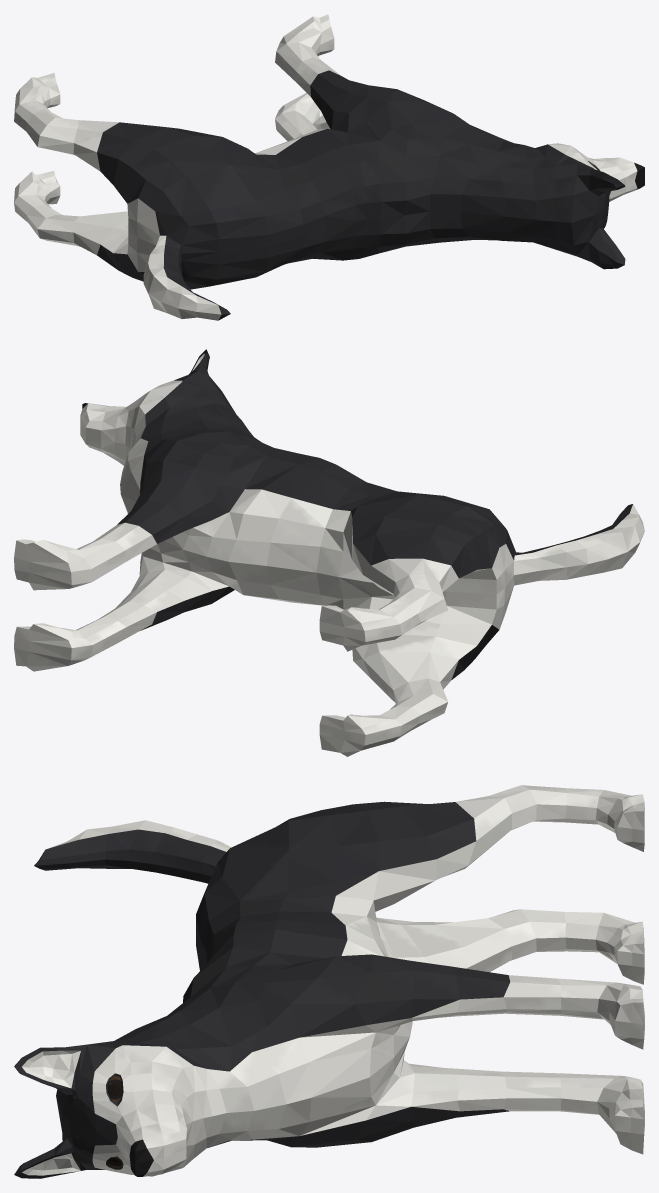
The model's file is dog_husky.obj.
3 renders of one model, top to bottom at view 1: azimuth 30°, elevation 25°; view 2: azimuth 150°, elevation 25°; view 3: azimuth 270°, elevation 25°, orthographic. The views are drawn at different scales.
Visible parts, largest first — view 1: dog_husky; view 2: dog_husky; view 3: dog_husky.
Part boxes in pixels (box(x1,y1,x2,y2)): dog_husky: box(14, 14, 644, 320); dog_husky: box(14, 349, 644, 756); dog_husky: box(14, 785, 644, 1178).
Size of the model in its own units: 0.9451 by 0.2406 by 0.7755.
Materials: 1 (1 with a texture image).
